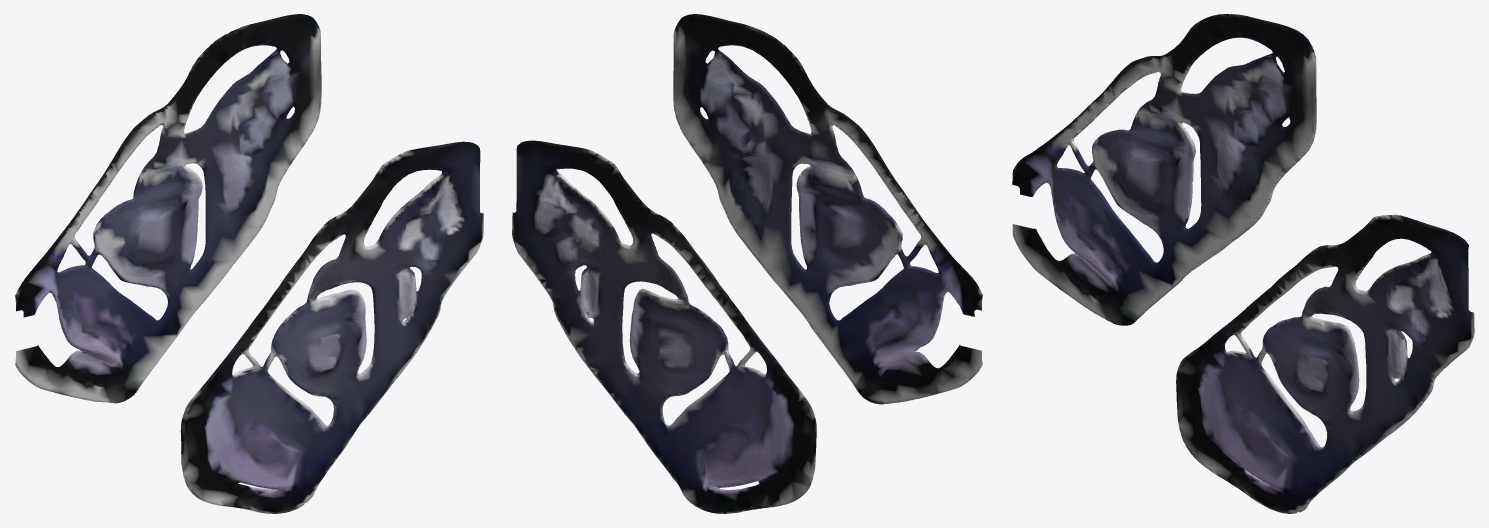
The model's file is bracers_ac.glb.
The picture shows the model from 3 angles, left to right: view 1: azimuth 30°, elevation 25°; view 2: azimuth 150°, elevation 25°; view 3: azimuth 330°, elevation 25°; orthographic projection. The views are drawn at different scales.
Parts seen in each view (by area): view 1: geometry_0; view 2: geometry_0; view 3: geometry_0.
Part boxes in pixels (left/top/right/bottom): geometry_0: left=15, top=14, right=483, bottom=513; geometry_0: left=512, top=14, right=982, bottom=513; geometry_0: left=1012, top=14, right=1474, bottom=513.
Size of the model in its own units: 0.649 by 0.6562 by 0.0169.
